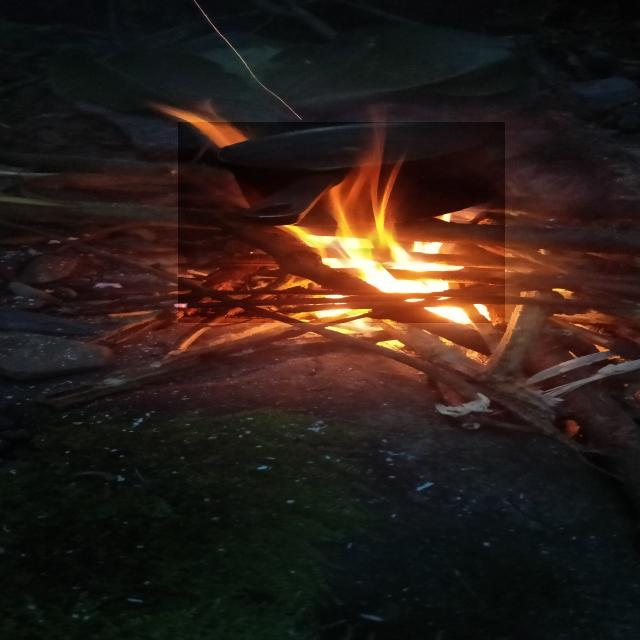Fire: (178, 122, 505, 323)
